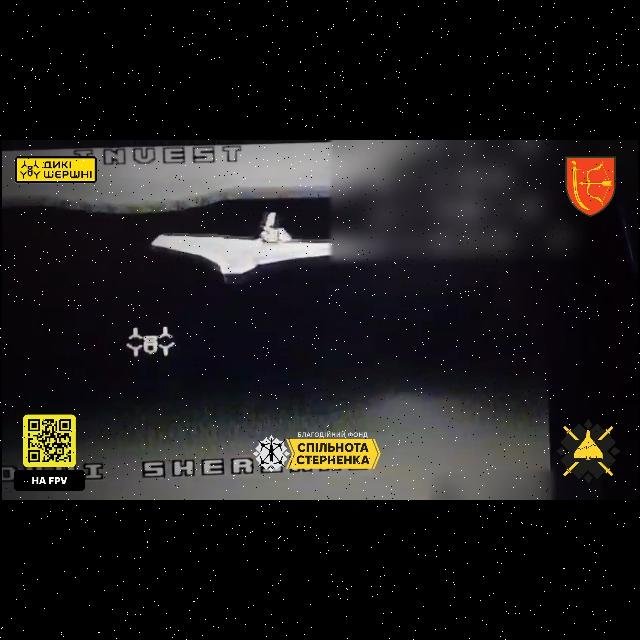Gerbera: (147, 212, 333, 284)
